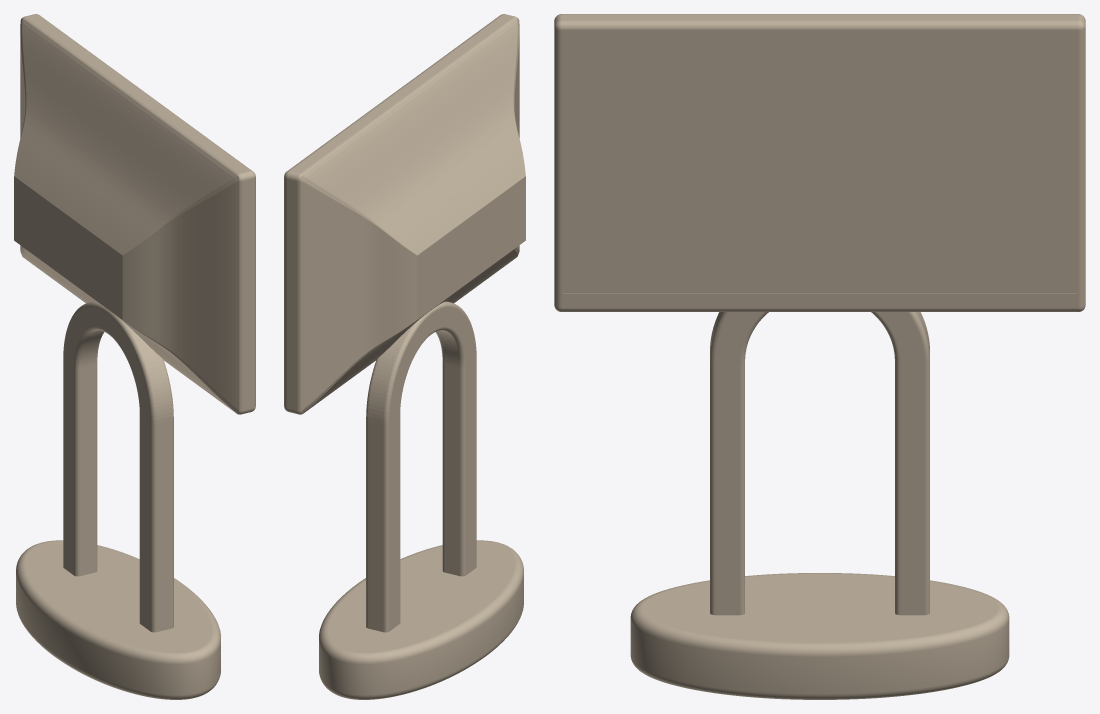
File: 3dcodebench_Monitor_seed0_L3_Q2__gpt61_sol.glb
The picture shows the model from 3 angles, left to right: view 1: azimuth 30°, elevation 25°; view 2: azimuth 150°, elevation 25°; view 3: azimuth 270°, elevation 25°; orthographic projection. The views are drawn at different scales.
Parts seen in each view (by area): view 1: object; view 2: object; view 3: object.
Boxes of the visible parts, x1,y1,x2,y2 form: object: (14, 14, 255, 699); object: (284, 14, 525, 699); object: (554, 14, 1085, 699).
Size of the model in its own units: 0.21 by 0.8244 by 0.6033.
